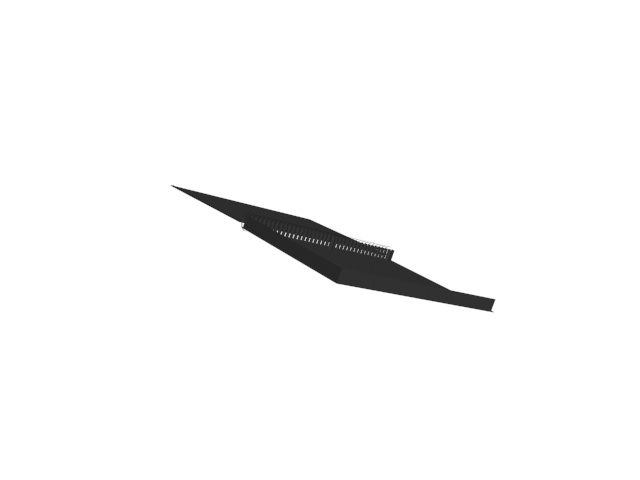paper_notebook: (169, 185, 496, 320)
